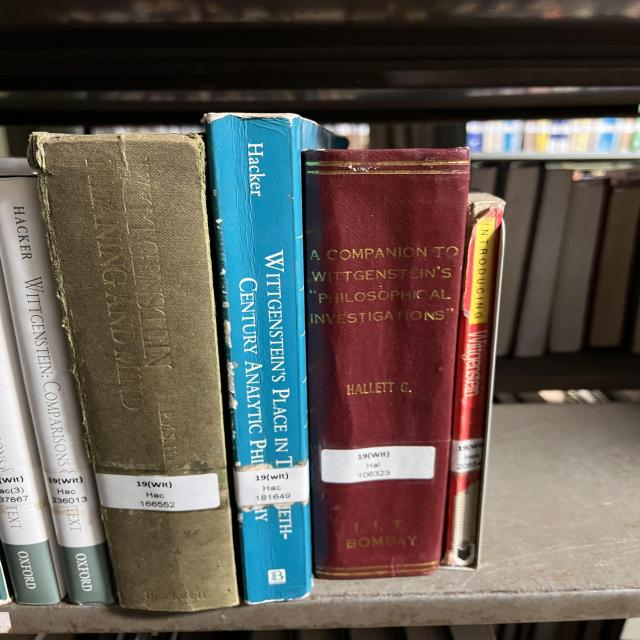Book: (30, 132, 238, 611), (303, 149, 470, 579), (205, 114, 347, 604), (0, 176, 115, 604), (442, 192, 505, 569), (0, 285, 62, 604)
Label: (95, 472, 220, 511), (320, 446, 435, 484), (235, 461, 310, 506), (45, 474, 87, 506), (0, 475, 37, 508), (450, 438, 483, 472)
